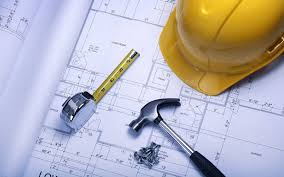casco: (158, 1, 284, 97)
